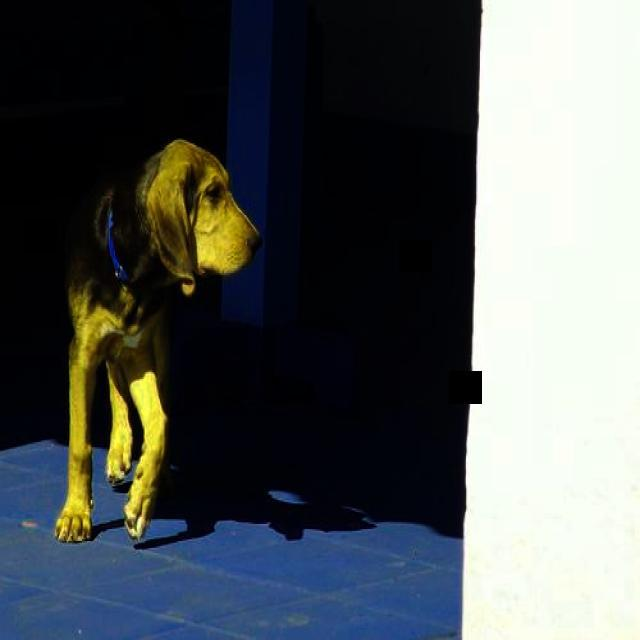adult_dog: (59, 138, 262, 551)
